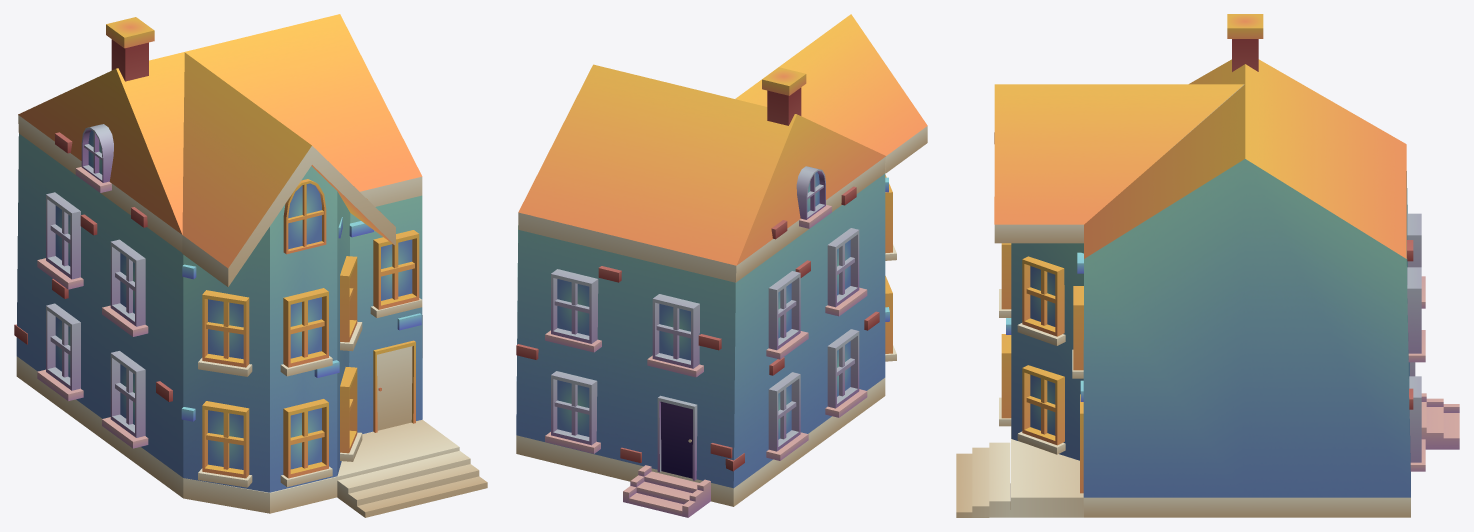
Rendered from SM_House_L_03.fbx.
3 renders of one model, left to right at view 1: azimuth 30°, elevation 25°; view 2: azimuth 150°, elevation 25°; view 3: azimuth 270°, elevation 25°, orthographic. The views are drawn at different scales.
Visible parts, largest first — view 1: SM_House_L_03; view 2: SM_House_L_03; view 3: SM_House_L_03.
Boxes of the visible parts, box(x1,y1,x2,y2) form: SM_House_L_03: box(14, 14, 487, 517); SM_House_L_03: box(516, 14, 927, 517); SM_House_L_03: box(956, 14, 1459, 517).
Bounding box in the file's own units: 6.99 × 12.22 × 10.61.
